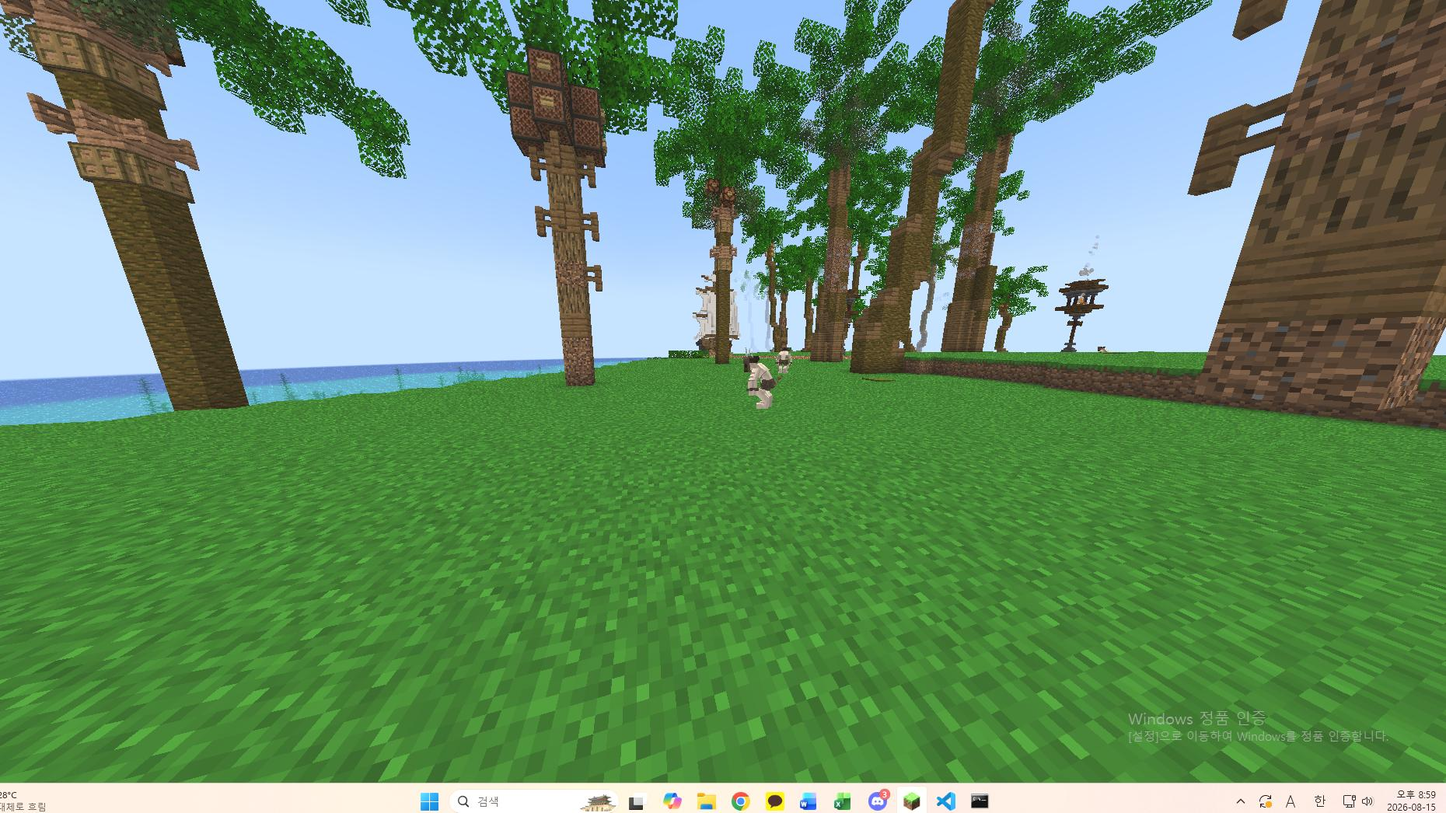bow_indian: (732, 346, 799, 418)
